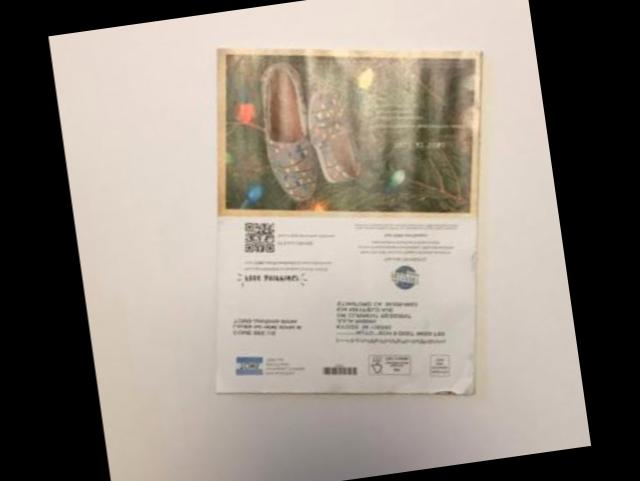cardboard paper: (215, 47, 479, 391)
